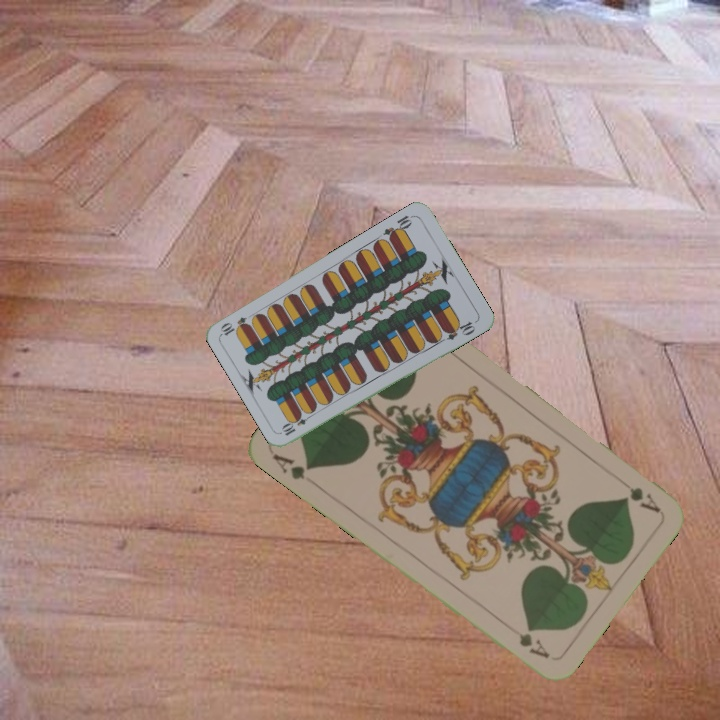E10: (379, 211, 416, 243), (278, 409, 316, 438)
GA: (268, 449, 315, 483), (625, 482, 663, 516)
